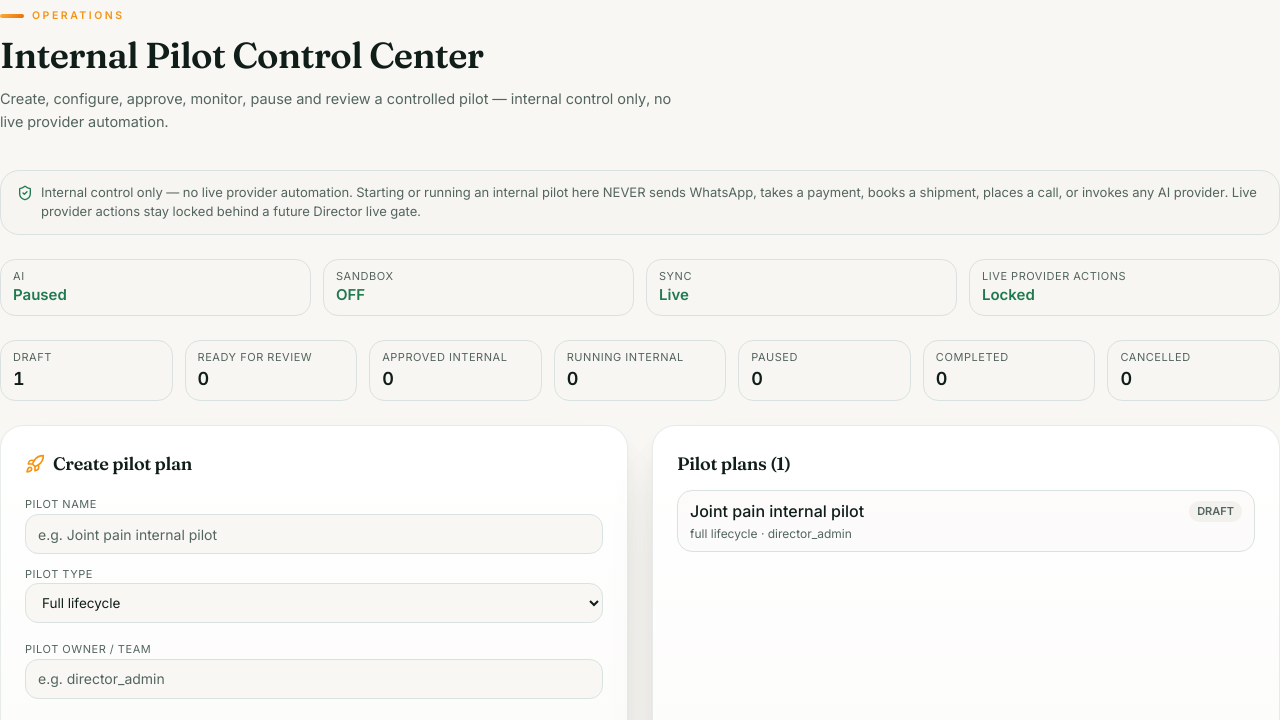
Phase 16G — Pilot Control Center page › opens a plan and renders the gate checklist + actions
Click the button with test id "pilot-plan-1": (777, 511) x1=677 y1=490 x2=1255 y2=552
(page scrolled)
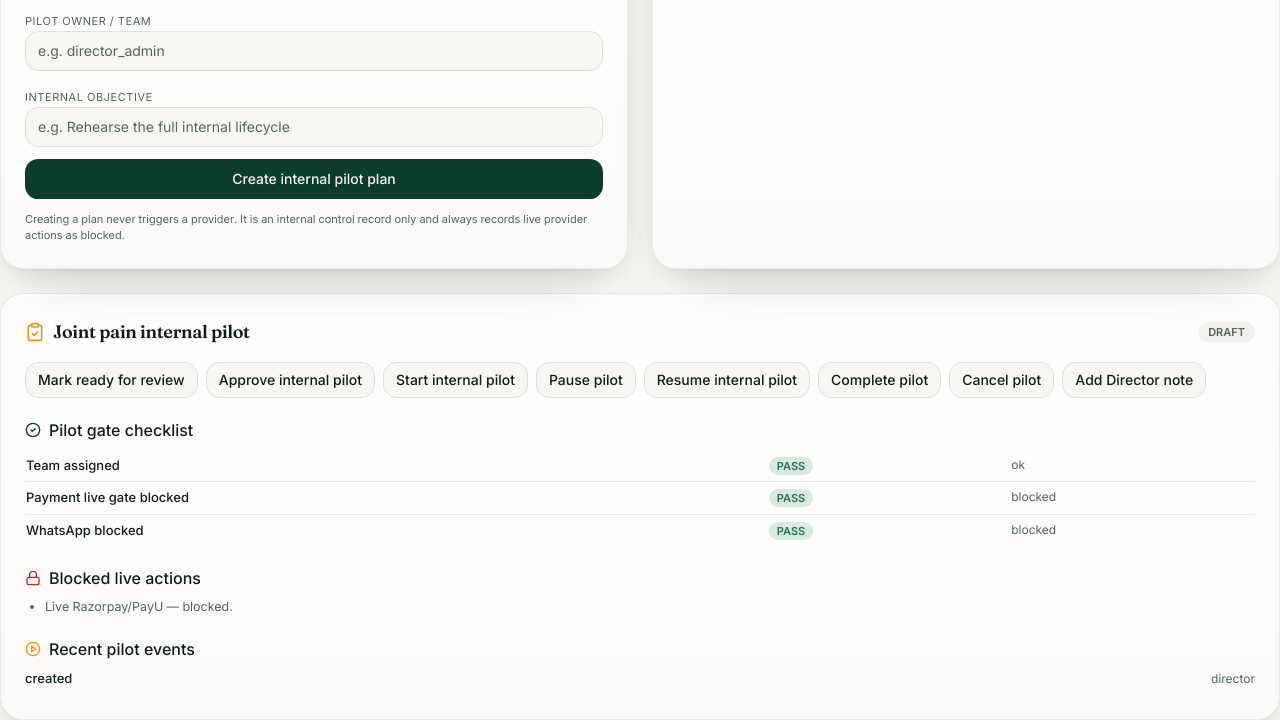
Check: the element with test id "pilot-plan-detail" is shown, box x1=0 y1=293 x2=1279 y2=719
Check: the table with test id "pilot-gate-checklist" is shown, box x1=25 y1=450 x2=1255 y2=546
Check: the element with test id "pilot-plan-actions" is shown, box x1=25 y1=362 x2=1255 y2=398
